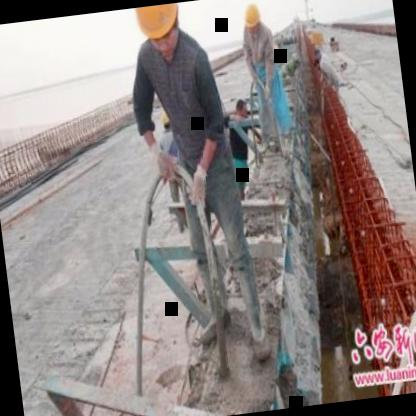head: (232, 92, 250, 121)
helmet: (124, 2, 190, 60), (237, 0, 267, 54)
